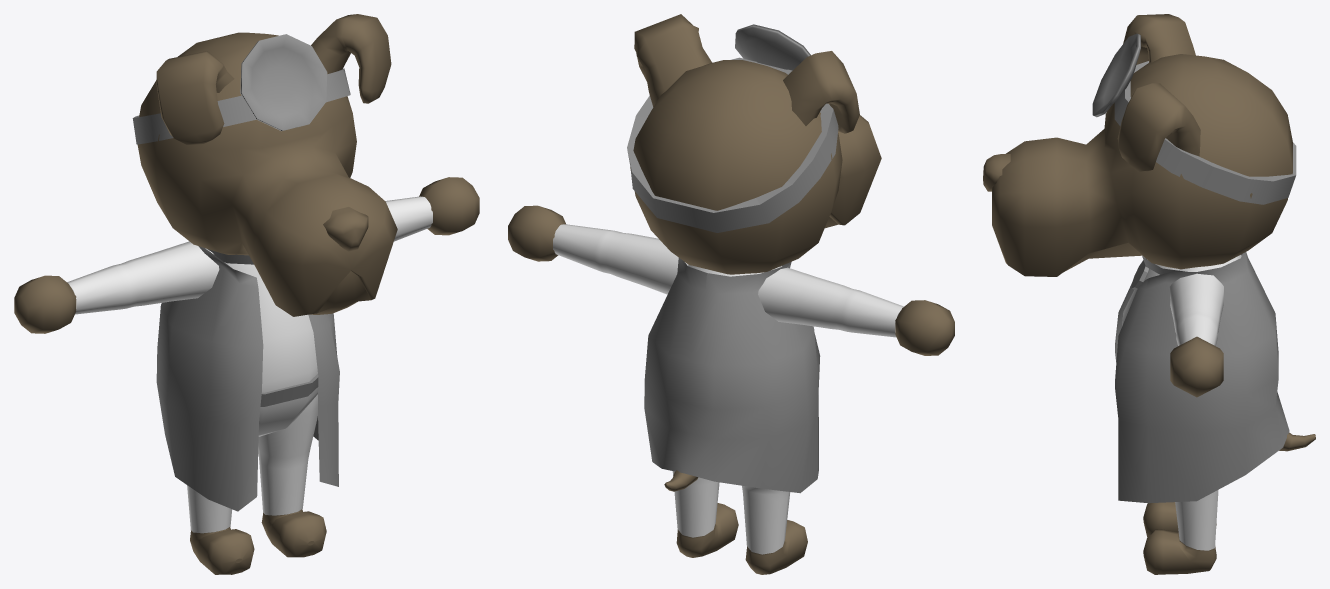
The model's file is Brad_FBX.fbx.
The picture shows the model from 3 angles, left to right: view 1: azimuth 30°, elevation 25°; view 2: azimuth 150°, elevation 25°; view 3: azimuth 270°, elevation 25°; orthographic projection. The views are drawn at different scales.
Visible parts, largest first — view 1: Brad_Geometery; view 2: Brad_Geometery; view 3: Brad_Geometery.
Part boxes in pixels (x1=…): Brad_Geometery: x1=14, y1=14, x2=479, y2=574; Brad_Geometery: x1=508, y1=14, x2=954, y2=574; Brad_Geometery: x1=983, y1=14, x2=1315, y2=574.
Size of the model in its own units: 7.05 by 7.85 by 4.64.
